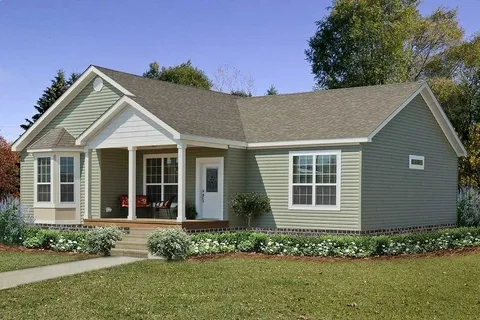private_hause: (33, 71, 456, 229)
